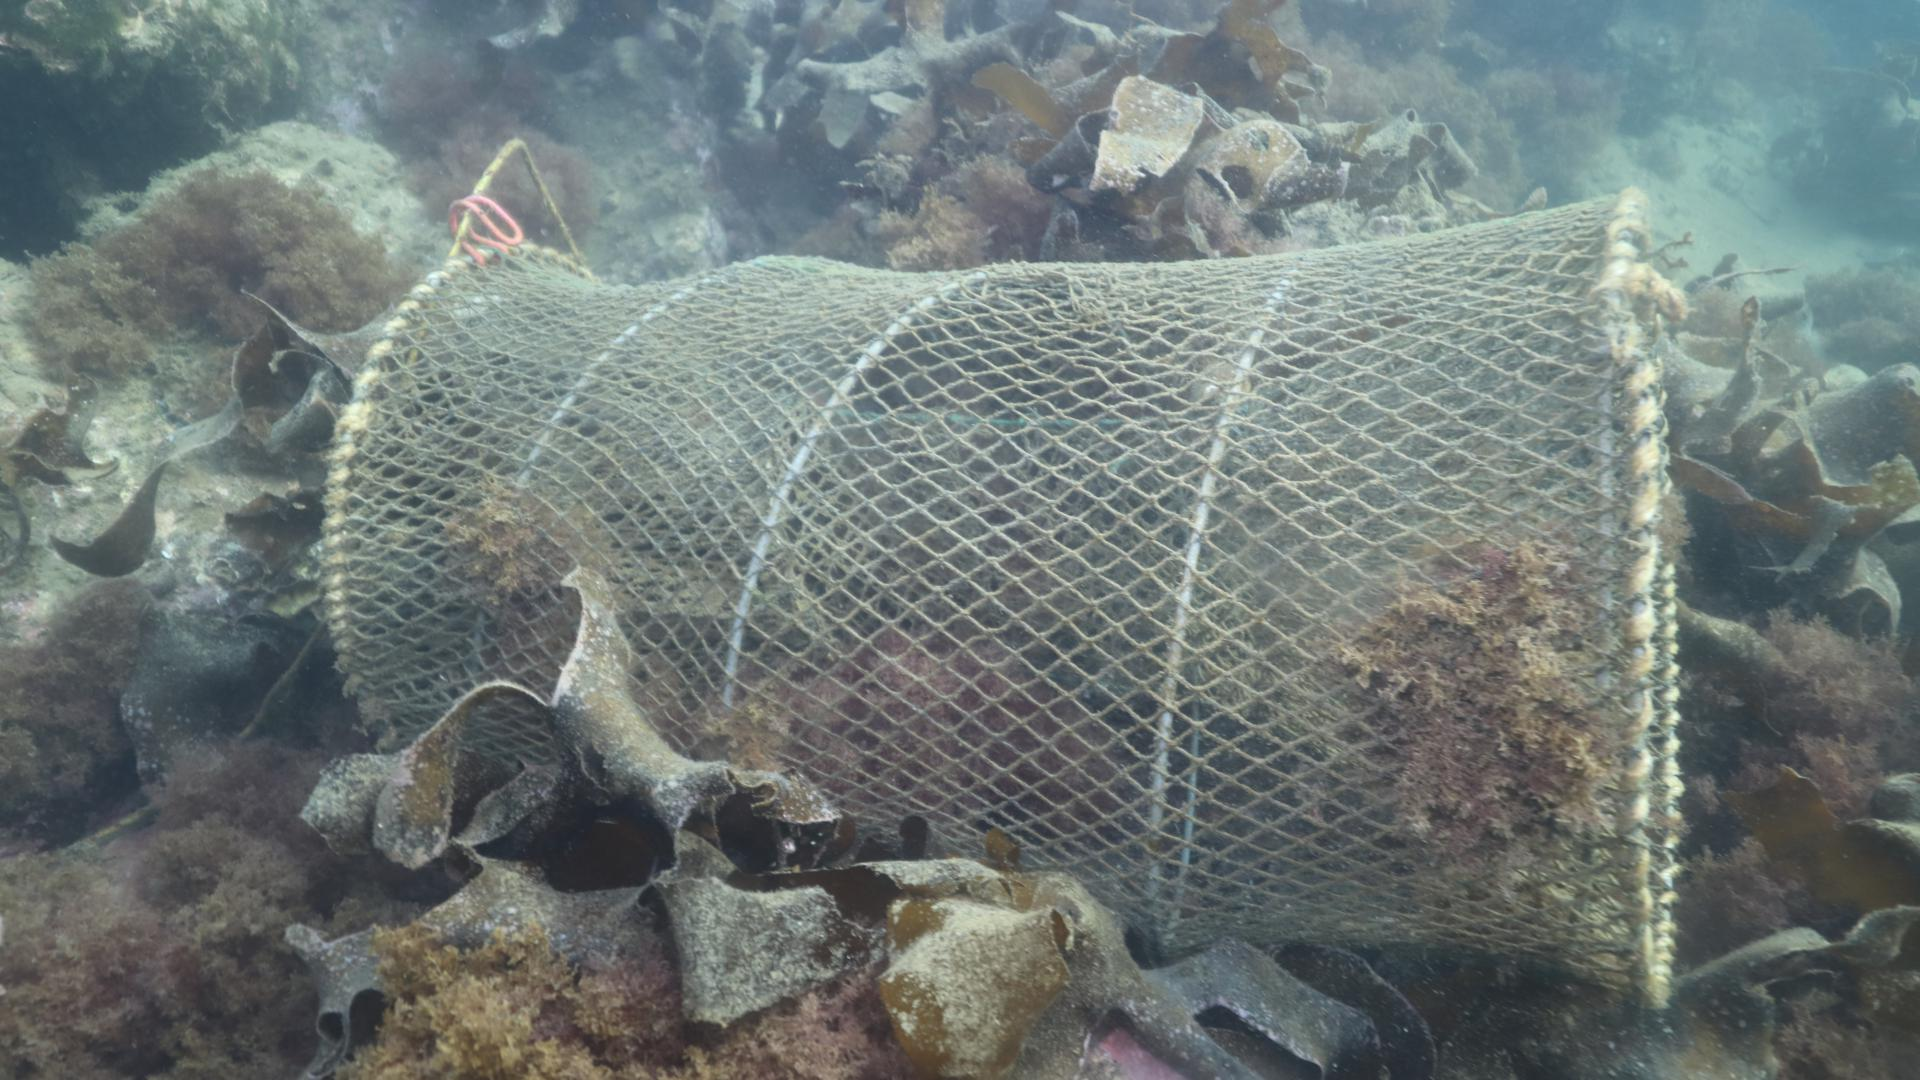spring fish trap: (320, 185, 1688, 1006)
